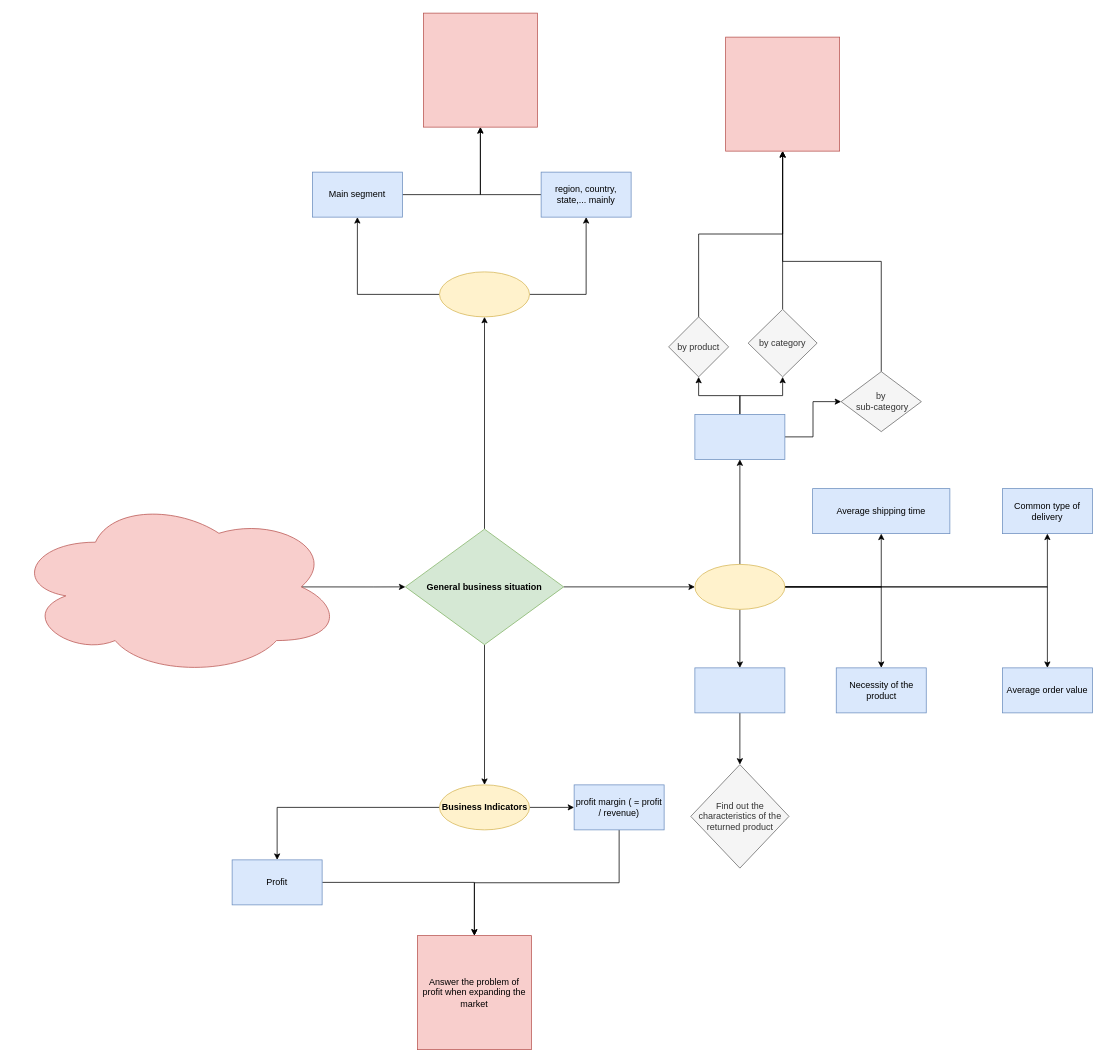
This 1106x1063 diagram has some shape labels left out. Here are the shapes that lost their labels. From the top down, the centre of each, then its label:
At pixel 480 69: "Answer questions about which region or segment to focus on to expand the market".
At pixel 782 93: "Answer the problem of which product, which category is suitable?".
At pixel 484 294: "Customers".
At pixel 739 436: "Best seller".
At pixel 177 586: "Problem: Expanding the market".
At pixel 739 586: "Products".
At pixel 739 690: "Product bounces a lot".
